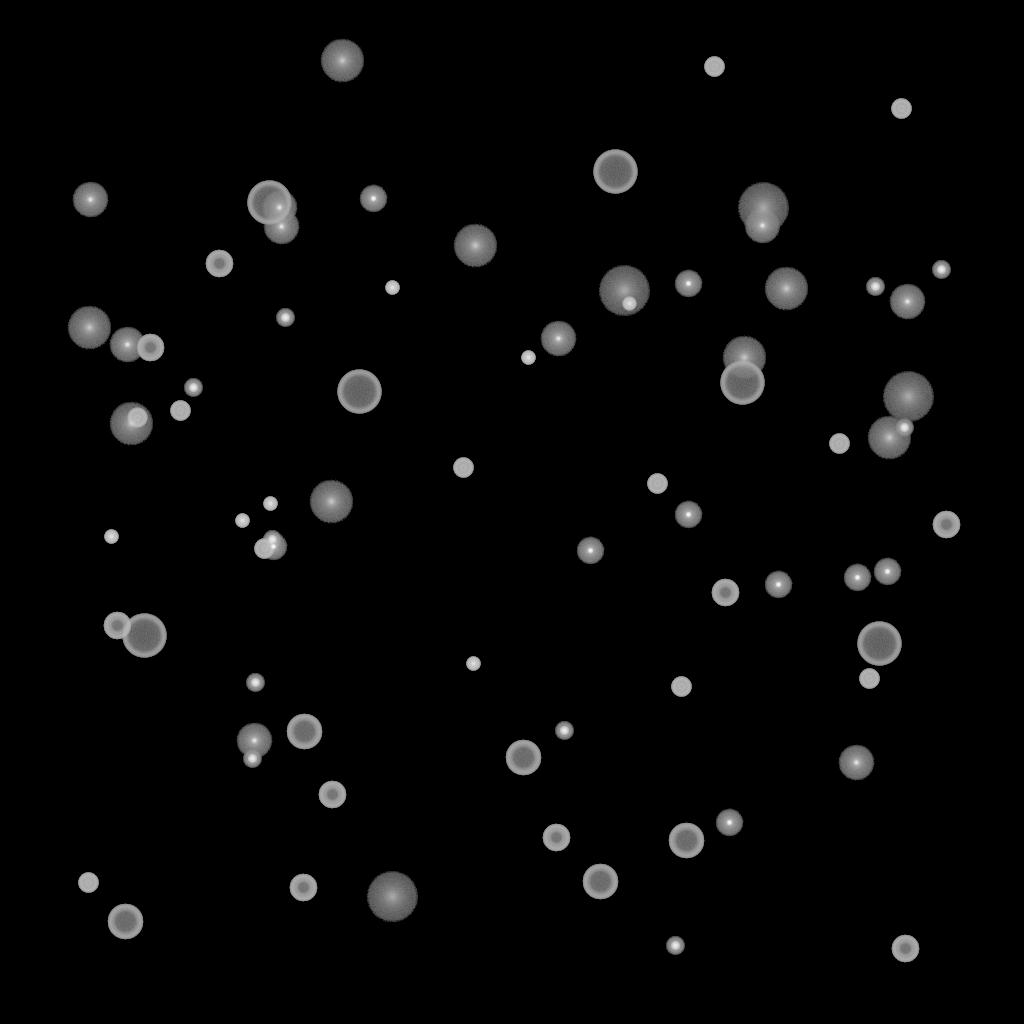depth:-10: (359, 185, 387, 213), (873, 558, 901, 586), (576, 537, 604, 565), (674, 270, 702, 298), (674, 501, 702, 529), (843, 564, 871, 592), (715, 809, 743, 837), (764, 571, 792, 599), (259, 533, 287, 561)
depth:-20: (895, 419, 913, 437), (184, 379, 202, 397), (666, 937, 684, 955), (276, 309, 294, 327), (243, 750, 261, 768), (866, 278, 884, 296), (555, 722, 573, 740), (263, 531, 281, 549), (932, 261, 950, 279), (246, 674, 264, 692)
depth:-30: (104, 530, 118, 544), (263, 497, 277, 511), (521, 351, 535, 365), (466, 657, 480, 671), (235, 514, 249, 528), (385, 281, 399, 295), (622, 297, 636, 311)
depth:-40: (647, 474, 667, 494), (453, 458, 473, 478), (671, 677, 691, 697), (859, 669, 879, 689), (704, 57, 724, 77), (829, 434, 849, 454), (891, 99, 911, 119), (254, 539, 274, 559), (78, 873, 98, 893), (170, 401, 190, 421), (127, 408, 147, 428)
depth:-50: (205, 250, 233, 278), (932, 511, 960, 539), (711, 579, 739, 607), (136, 334, 164, 362), (318, 781, 346, 809), (289, 874, 317, 902), (542, 824, 570, 852), (103, 612, 131, 640), (891, 935, 919, 963)
depth:-60: (582, 864, 618, 900), (668, 823, 704, 859), (286, 714, 322, 750), (505, 740, 541, 776), (107, 904, 143, 940)
depth:-70: (247, 181, 291, 225), (337, 370, 381, 414), (122, 614, 166, 658), (720, 361, 764, 405), (857, 622, 901, 666), (593, 150, 637, 194)
depth:0: (261, 190, 297, 226), (744, 208, 780, 244), (889, 284, 925, 320), (540, 321, 576, 357), (263, 209, 299, 245), (109, 327, 145, 363), (72, 182, 108, 218), (236, 723, 272, 759), (838, 745, 874, 781)
depth:10: (320, 39, 364, 83), (867, 416, 911, 460), (309, 480, 353, 524), (453, 224, 497, 268), (722, 336, 766, 380), (109, 402, 153, 446), (764, 267, 808, 311), (67, 306, 111, 350)
depth:20: (882, 372, 934, 422), (366, 872, 418, 922), (598, 266, 650, 316), (737, 183, 789, 233)
